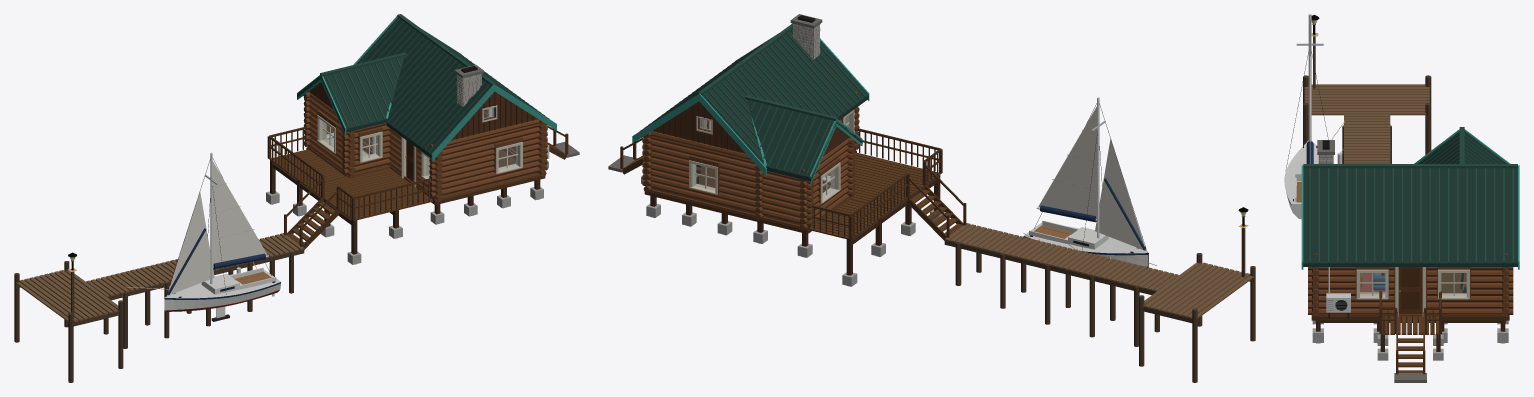
Rendered from house.glb.
3 views of the same model, side by side, from view 1: azimuth 30°, elevation 25°; view 2: azimuth 150°, elevation 25°; view 3: azimuth 270°, elevation 25° (orthographic). The views are drawn at different scales.
Parts seen in each view (by area): view 1: Roof, Walls (logs), Dock, Deck & railings, Floor & stilts, Boat hull, Mainsail, Window & door frames, Jib, Gables, Stairs, Baseboards (+4 smaller); view 2: Roof, Dock, Walls (logs), Deck & railings, Floor & stilts, Mainsail, Boat hull, Jib, Gables, Window & door frames, Stairs, Fireplace & chimney (+4 smaller); view 3: Roof, Dock, Walls (logs), Back deck & stairs, Floor & stilts, Window & door frames, Back door, Boat hull, Glass, Mast & rigging, AC outdoor unit, Baseboards (+3 smaller).
Part boxes in pixels (<box>): Roof: <box>297,14,556,161</box>; Walls (logs): <box>303,55,547,201</box>; Dock: <box>14,233,304,382</box>; Deck & railings: <box>267,127,434,220</box>; Floor & stilts: <box>266,147,545,264</box>; Boat hull: <box>164,267,280,321</box>; Mainsail: <box>212,161,267,265</box>; Window & door frames: <box>317,108,522,187</box>; Jib: <box>167,191,214,295</box>; Gables: <box>309,83,538,140</box>; Stairs: <box>284,179,339,249</box>; Baseboards: <box>309,144,540,201</box>; Roof: <box>632,23,869,183</box>; Dock: <box>944,223,1255,382</box>; Walls (logs): <box>642,62,859,230</box>; Deck & railings: <box>808,128,942,239</box>; Floor & stilts: <box>644,150,944,286</box>; Mainsail: <box>1038,106,1096,218</box>; Boat hull: <box>1023,220,1148,267</box>; Jib: <box>1095,139,1146,250</box>; Gables: <box>652,101,848,156</box>; Window & door frames: <box>689,109,854,203</box>; Stairs: <box>907,165,966,240</box>; Fireplace & chimney: <box>790,14,822,59</box>; Roof: <box>1301,127,1519,269</box>; Dock: <box>1303,33,1431,163</box>; Walls (logs): <box>1308,253,1513,314</box>; Back deck & stairs: <box>1377,291,1443,382</box>; Floor & stilts: <box>1311,273,1509,343</box>; Window & door frames: <box>1355,267,1470,316</box>; Back door: <box>1398,267,1422,313</box>; Boat hull: <box>1284,140,1318,219</box>; Glass: <box>1360,273,1466,295</box>; Mast & rigging: <box>1285,14,1328,170</box>; AC outdoor unit: <box>1326,267,1350,318</box>; Baseboards: <box>1312,314,1509,316</box>.
Size of the model in its own units: 119 by 42.94 by 38.96.
